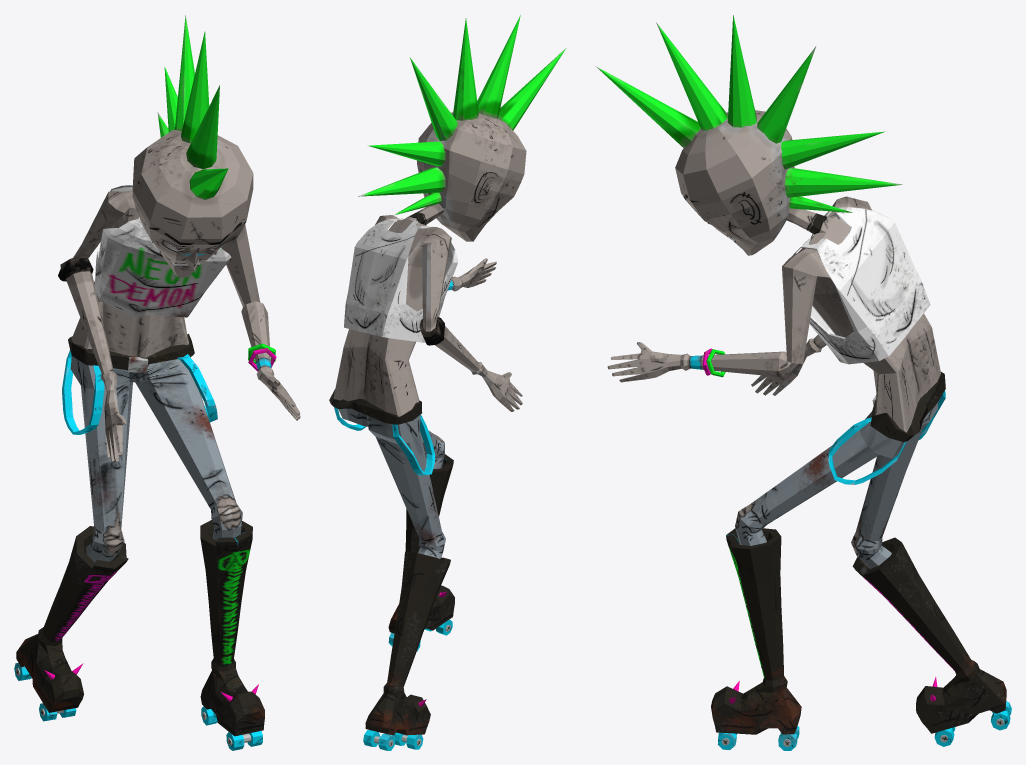
Rendered from punkAnimation_000020.obj.
3 renders of one model, left to right at view 1: azimuth 30°, elevation 25°; view 2: azimuth 150°, elevation 25°; view 3: azimuth 270°, elevation 25°, orthographic. The views are drawn at different scales.
Parts seen in each view (by area): view 1: Cube.004_Cube.003; view 2: Cube.004_Cube.003; view 3: Cube.004_Cube.003.
Part boxes in pixels (x1,y1,x2,y2): Cube.004_Cube.003: (14,15,300,750); Cube.004_Cube.003: (329,15,566,750); Cube.004_Cube.003: (595,15,1011,750).
Size of the model in its own units: 1.57 by 6.9 by 3.5.
